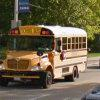Bus: (4, 22, 91, 88)
